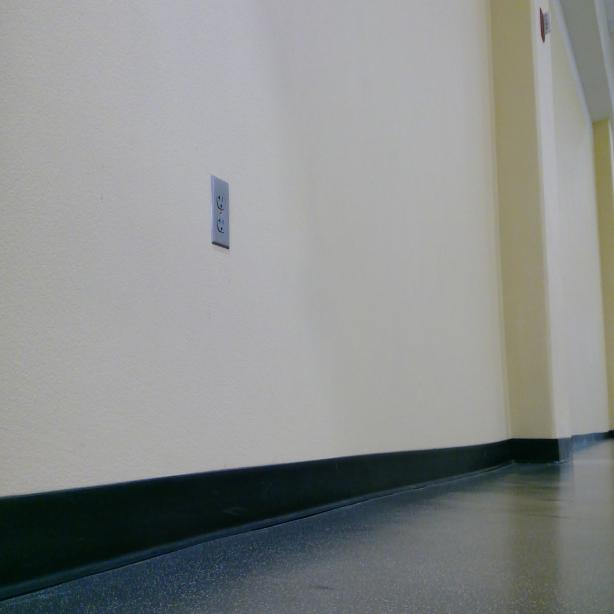typeb: (216, 190, 227, 210), (216, 214, 226, 234)
